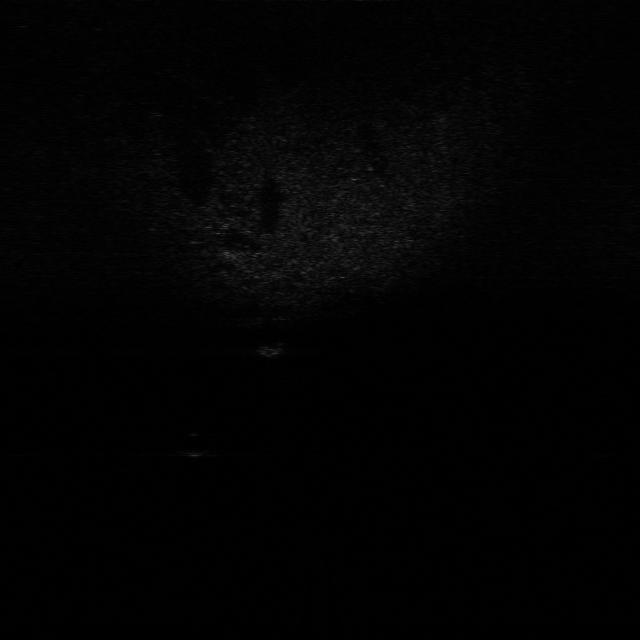ball: (180, 427, 214, 458)
cube: (254, 334, 288, 360)
